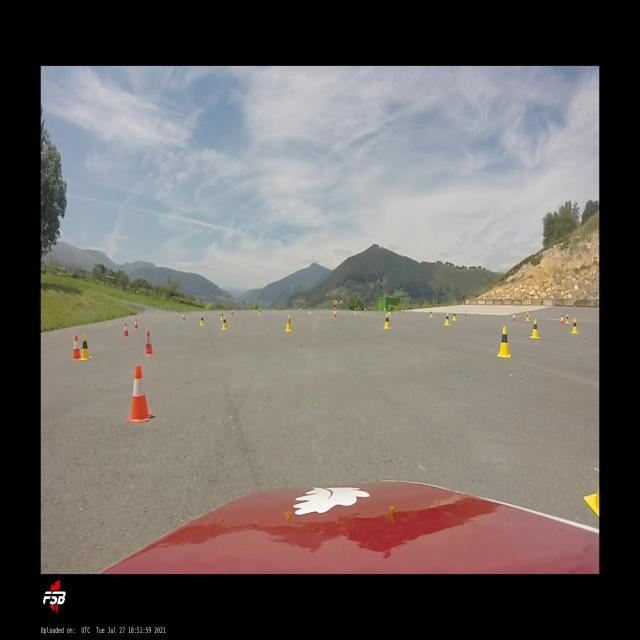orange_cone: (126, 364, 154, 423), (143, 330, 155, 356), (72, 334, 82, 360), (123, 322, 130, 337), (134, 318, 139, 329), (511, 313, 516, 323), (560, 314, 564, 326), (464, 309, 468, 318), (182, 313, 186, 321), (334, 309, 337, 318), (299, 306, 302, 314), (231, 308, 234, 314), (401, 308, 404, 313), (364, 307, 366, 312)
yellow_cone: (496, 326, 511, 358), (80, 334, 92, 361), (529, 318, 540, 339), (383, 313, 391, 329), (570, 318, 578, 334), (286, 315, 292, 332), (444, 312, 450, 326), (222, 316, 228, 329), (564, 314, 570, 324), (200, 314, 205, 326), (452, 311, 457, 321), (220, 310, 224, 320), (526, 312, 530, 321), (308, 307, 312, 314), (258, 308, 262, 315), (354, 306, 357, 314), (430, 310, 433, 318), (388, 308, 390, 316)
